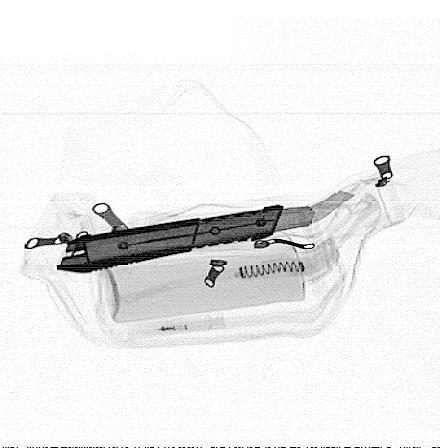Knife: (54, 190, 356, 274)
